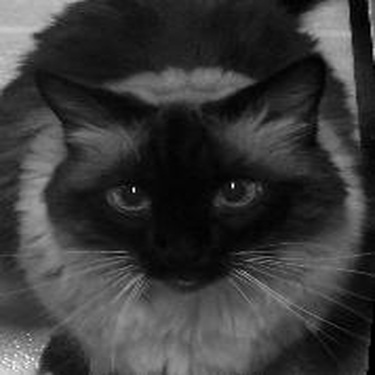cat: (1, 1, 367, 370)
